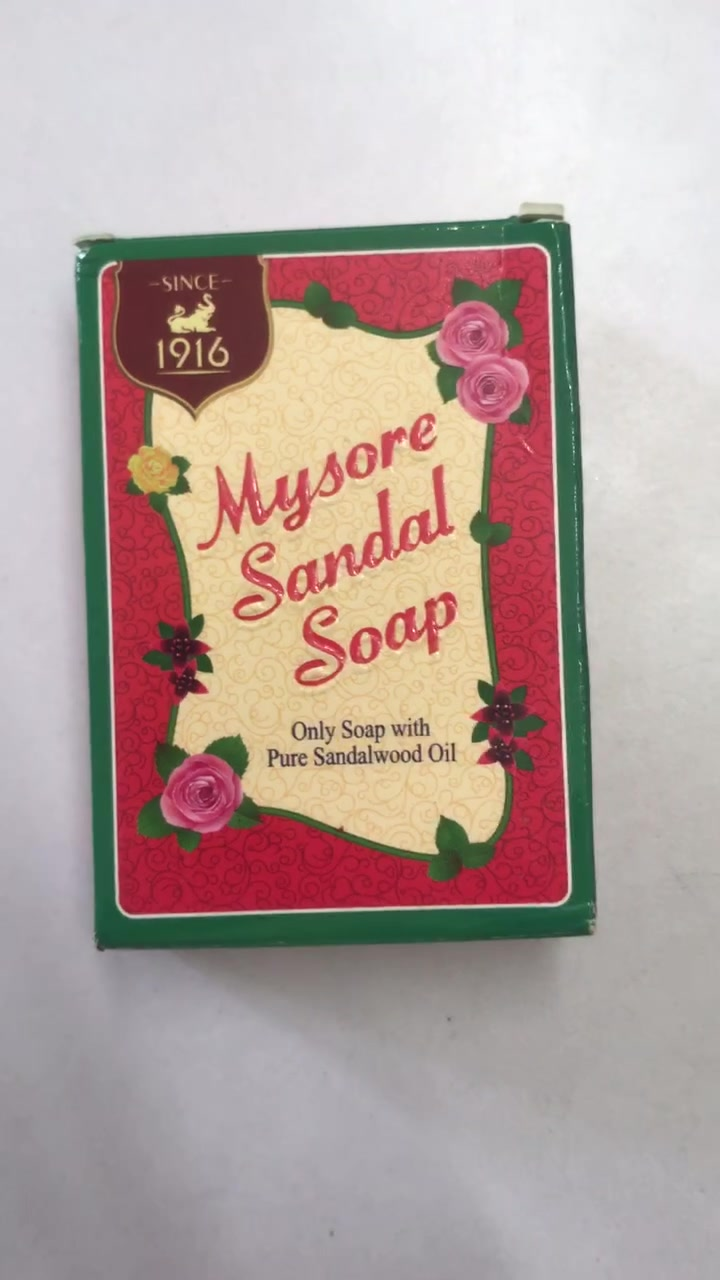mysore sandal soap: (85, 237, 592, 942)
